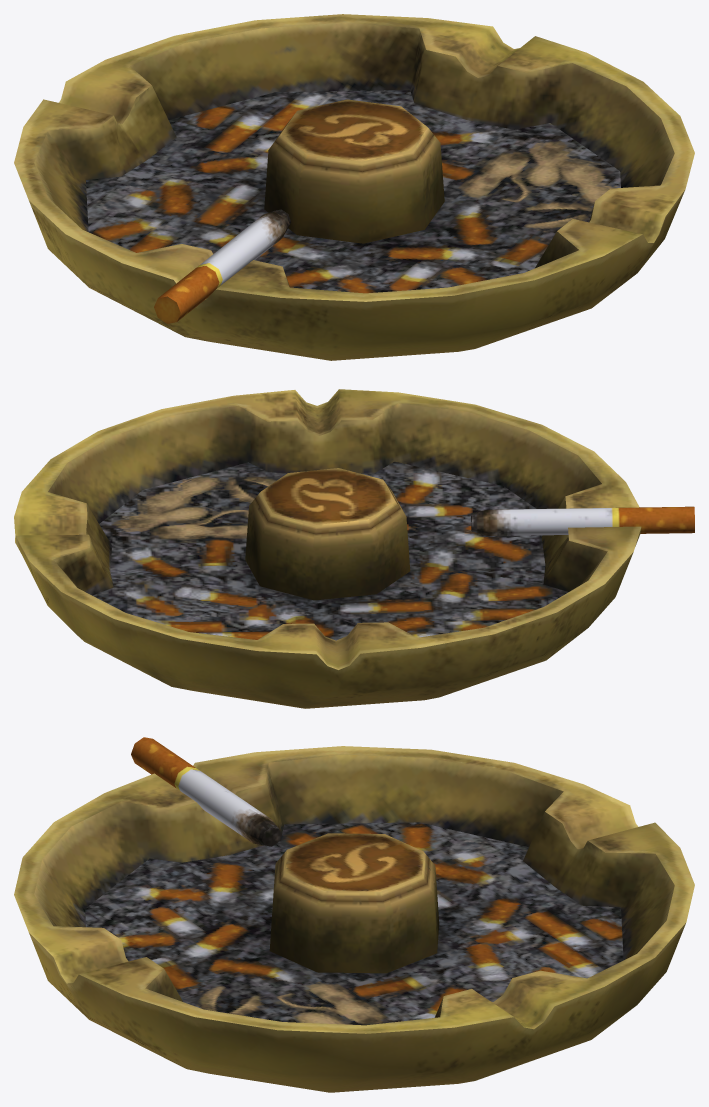
Rendered from Ashtray.obj.
3 renders of one model, top to bottom at view 1: azimuth 30°, elevation 25°; view 2: azimuth 150°, elevation 25°; view 3: azimuth 270°, elevation 25°, orthographic. The views are drawn at different scales.
Visible parts, largest first — view 1: Ashtray; view 2: Ashtray; view 3: Ashtray.
Part boxes in pixels (bbox=[...]): Ashtray: bbox=[14, 14, 694, 360]; Ashtray: bbox=[14, 389, 694, 708]; Ashtray: bbox=[14, 737, 694, 1092].
Size of the model in its own units: 29.55 by 5.92 by 29.32.
1 material, 1 textured.
